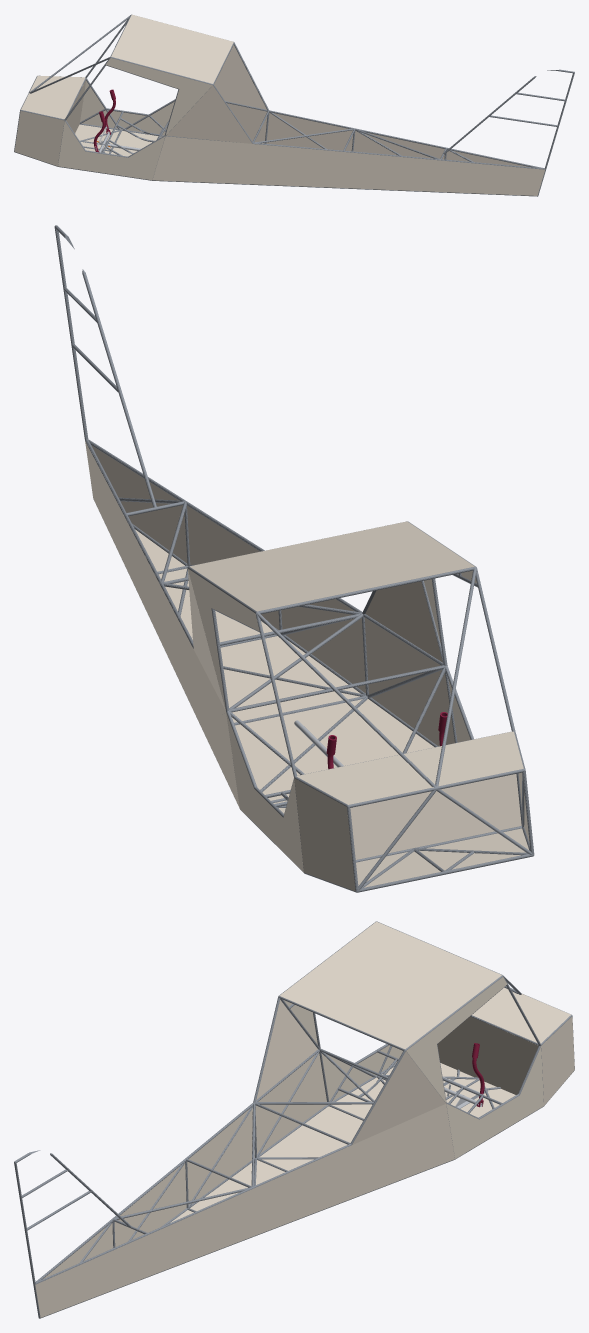
Rendered from merlingt.glb.
The picture shows the model from 3 angles, top to bottom: view 1: azimuth 30°, elevation 25°; view 2: azimuth 150°, elevation 25°; view 3: azimuth 270°, elevation 25°; orthographic projection. The views are drawn at different scales.
Visible parts, largest first — view 1: Skin|Skin Panel 7|1, Frame|Tube Frame|1, Skin|Skin Panel 3|1, Skin|Skin Panel 6|1, Skin|Skin Panel 1|1, Skin|Skin Panel 10|1, Skin|Skin Panel 12|1, Skin|Skin Panel 2|1, Skin|Skin Panel 14|1, Skin|Skin Panel 4|1, Skin|Skin Panel 15|1, Skin|Skin Panel 9|1 (+1 smaller); view 2: Frame|Tube Frame|1, Skin|Skin Panel 8|1, Skin|Skin Panel 7|1, Skin|Skin Panel 3|1, Skin|Skin Panel 16|1, Skin|Skin Panel 6|1, Skin|Skin Panel 14|1, Skin|Skin Panel 11|1, Skin|Skin Panel 13|1, Skin|Skin Panel 4|1, Skin|Skin Panel 10|1, Skin|Skin Panel 5|1 (+1 smaller); view 3: Skin|Skin Panel 6|1, Skin|Skin Panel 3|1, Frame|Tube Frame|1, Skin|Skin Panel 7|1, Skin|Skin Panel 16|1, Skin|Skin Panel 8|1, Skin|Skin Panel 15|1, Skin|Skin Panel 4|1, Skin|Skin Panel 14|1, Skin|Skin Panel 10|1, Skin|Skin Panel 5|1, Skin|Skin Panel 9|1 (+2 smaller).
Part boxes in pixels (left/top/right/bottom): Skin|Skin Panel 7|1: left=152, top=136, right=544, bottom=195; Frame|Tube Frame|1: left=14, top=14, right=574, bottom=196; Skin|Skin Panel 3|1: left=111, top=14, right=233, bottom=83; Skin|Skin Panel 6|1: left=226, top=103, right=528, bottom=166; Skin|Skin Panel 1|1: left=58, top=121, right=165, bottom=180; Skin|Skin Panel 10|1: left=166, top=85, right=252, bottom=143; Skin|Skin Panel 12|1: left=14, top=111, right=64, bottom=166; Skin|Skin Panel 2|1: left=106, top=58, right=212, bottom=135; Skin|Skin Panel 14|1: left=21, top=75, right=85, bottom=119; Skin|Skin Panel 4|1: left=80, top=81, right=174, bottom=135; Skin|Skin Panel 15|1: left=214, top=45, right=266, bottom=109; Skin|Skin Panel 9|1: left=75, top=124, right=161, bottom=156; Frame|Tube Frame|1: left=54, top=225, right=534, bottom=892; Skin|Skin Panel 8|1: left=135, top=529, right=434, bottom=800; Skin|Skin Panel 7|1: left=91, top=445, right=454, bottom=746; Skin|Skin Panel 3|1: left=189, top=521, right=474, bottom=611; Skin|Skin Panel 16|1: left=350, top=774, right=521, bottom=859; Skin|Skin Panel 6|1: left=85, top=441, right=239, bottom=808; Skin|Skin Panel 14|1: left=296, top=731, right=523, bottom=804; Skin|Skin Panel 11|1: left=294, top=778, right=355, bottom=891; Skin|Skin Panel 13|1: left=356, top=828, right=528, bottom=887; Skin|Skin Panel 4|1: left=226, top=713, right=303, bottom=872; Skin|Skin Panel 10|1: left=365, top=581, right=442, bottom=662; Skin|Skin Panel 5|1: left=188, top=569, right=259, bottom=709; Skin|Skin Panel 6|1: left=35, top=1104, right=454, bottom=1317; Skin|Skin Panel 3|1: left=279, top=921, right=501, bottom=1049; Frame|Tube Frame|1: left=14, top=921, right=574, bottom=1318; Skin|Skin Panel 7|1: left=43, top=1053, right=326, bottom=1278; Skin|Skin Panel 16|1: left=437, top=1016, right=538, bottom=1094; Skin|Skin Panel 8|1: left=170, top=1106, right=362, bottom=1222; Skin|Skin Panel 15|1: left=352, top=1051, right=445, bottom=1144; Skin|Skin Panel 4|1: left=446, top=1046, right=543, bottom=1158; Skin|Skin Panel 14|1: left=472, top=987, right=570, bottom=1043; Skin|Skin Panel 10|1: left=256, top=1000, right=317, bottom=1099; Skin|Skin Panel 5|1: left=406, top=977, right=507, bottom=1102; Skin|Skin Panel 9|1: left=331, top=1063, right=515, bottom=1118.
Bounding box in the file's own units: 4.15 × 1.27 × 3.54.
